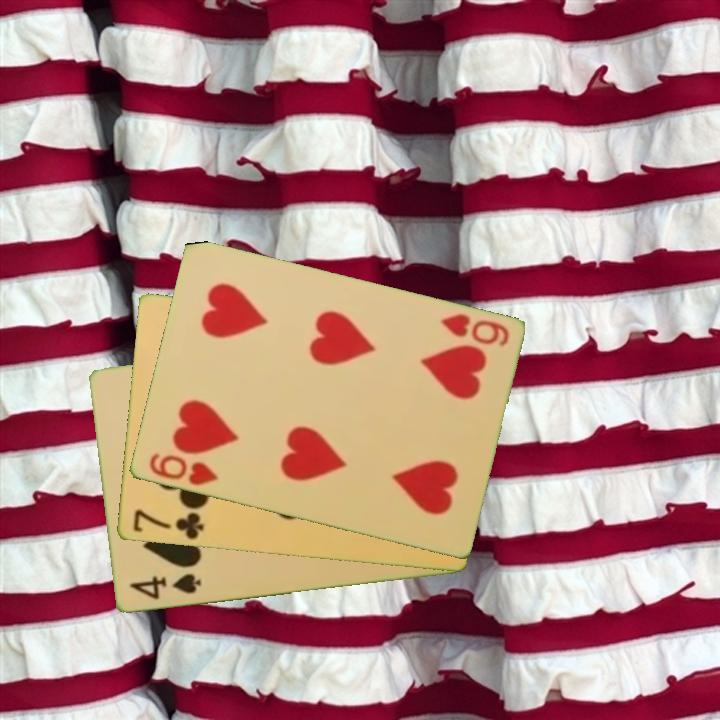4s: (126, 570, 204, 603)
6h: (145, 449, 221, 489), (436, 310, 512, 350)
7c: (129, 506, 206, 543)
